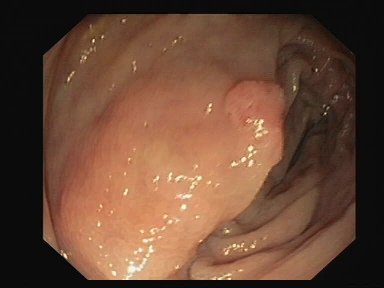polyp: (207, 64, 327, 180)
